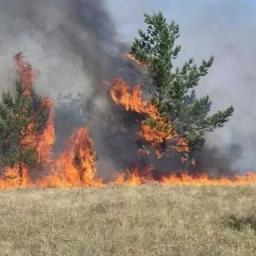Low smoke: (0, 0, 162, 100)
Medium fire: (0, 43, 255, 192)
